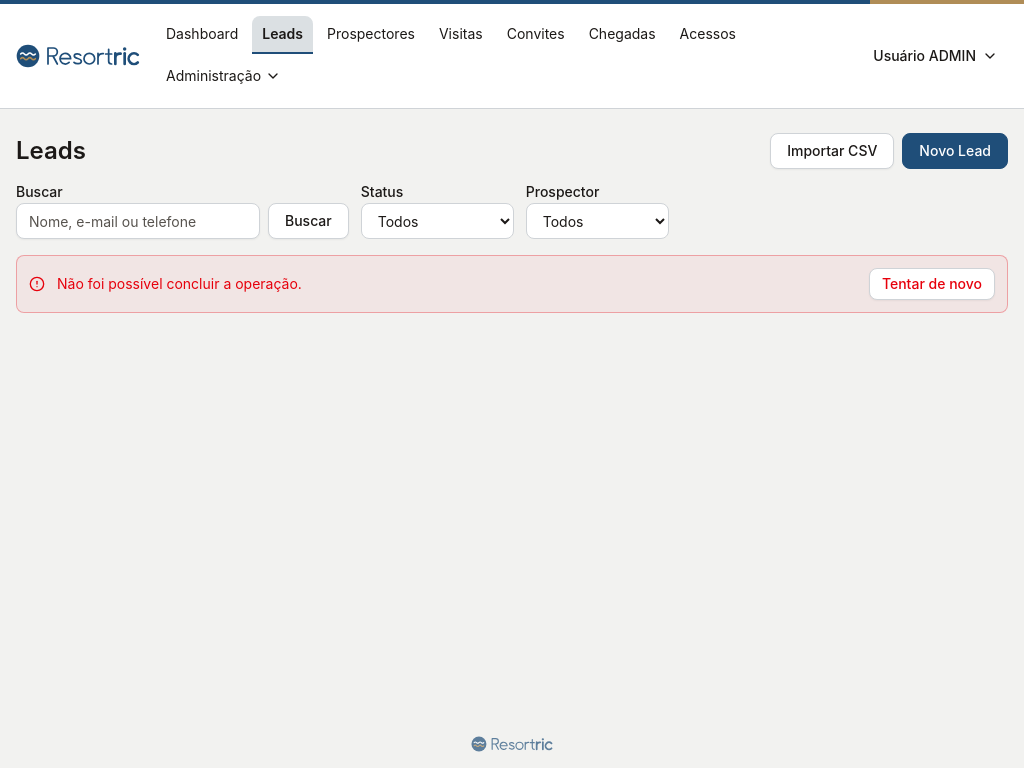
Test case: Listas: vazio fora da tabela e erro com nova tentativa › erro ao carregar oferece "Tentar de novo", que refaz a consulta
Click the button "Tentar de novo": (932,284) [869,268,995,300]
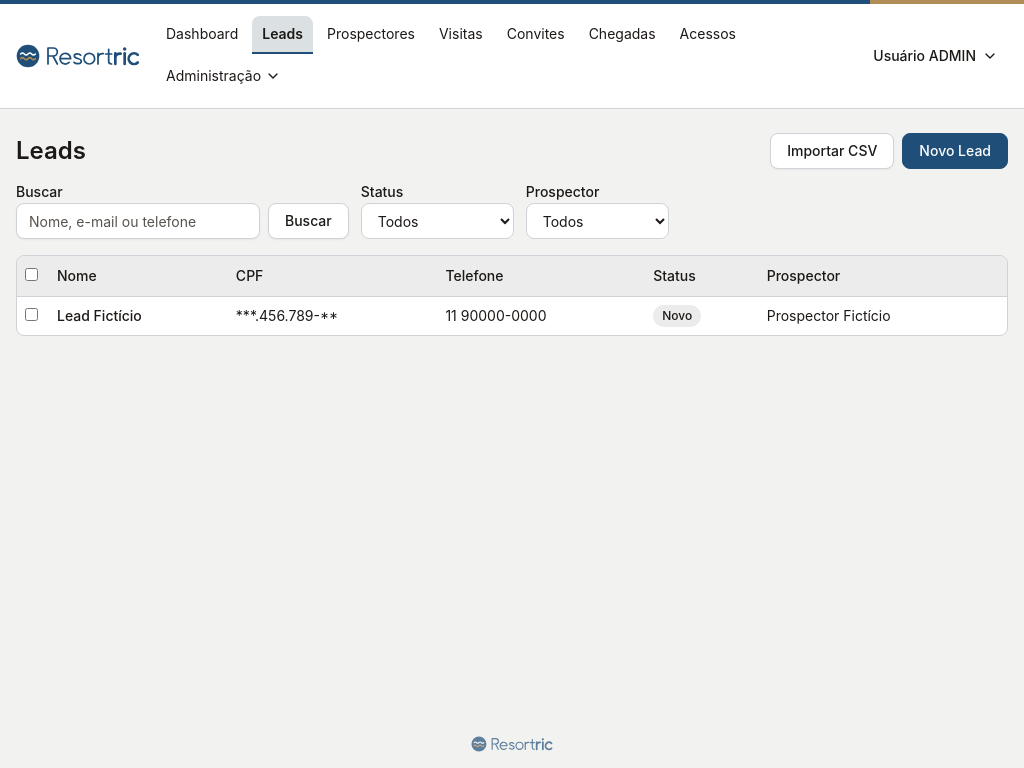
Check: the table is shown, box [17,256,1007,334]
Check: the message "Não foi possível concluir a operação. Tentar de novo" is gone
